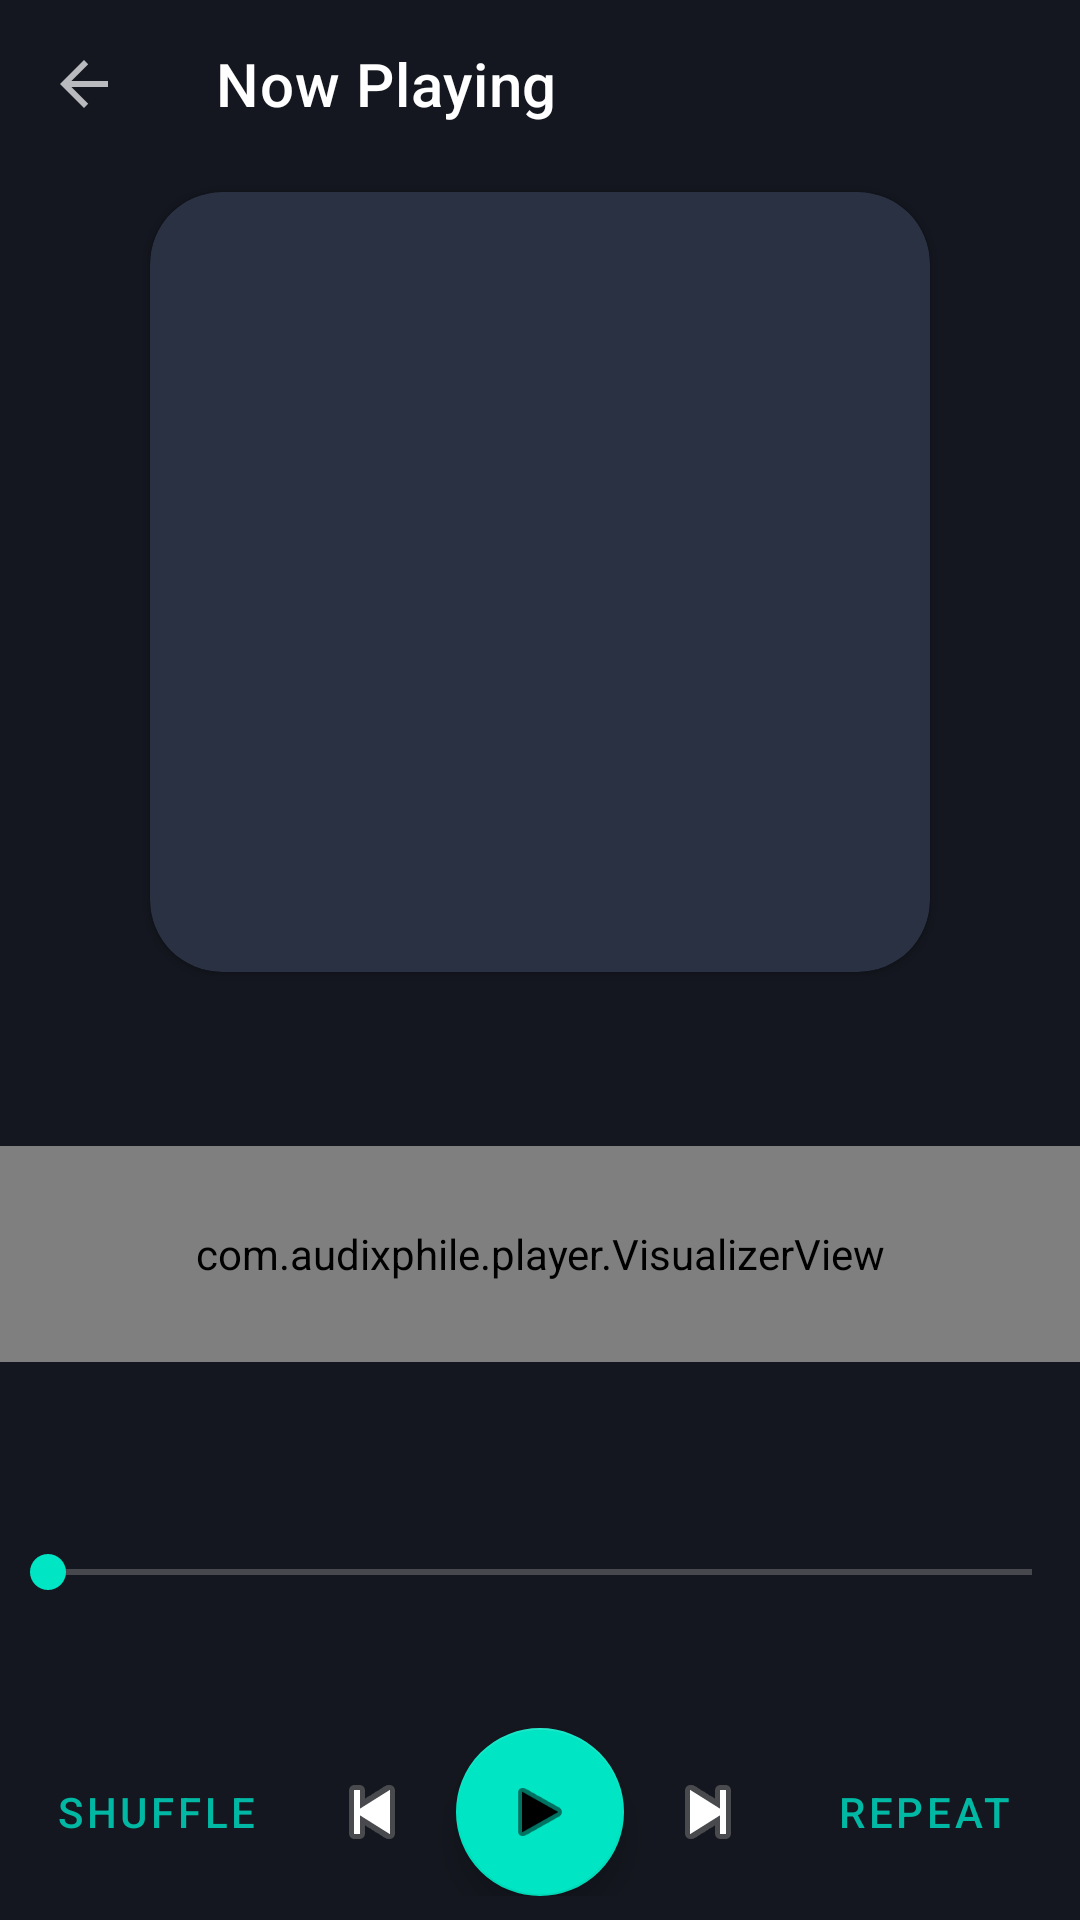

Screen size 1080px×1920px. Icon name, then its center in pixels as (x=x, y=y):
next: (x=708, y=1812)
play: (x=540, y=1812)
previous: (x=372, y=1812)
